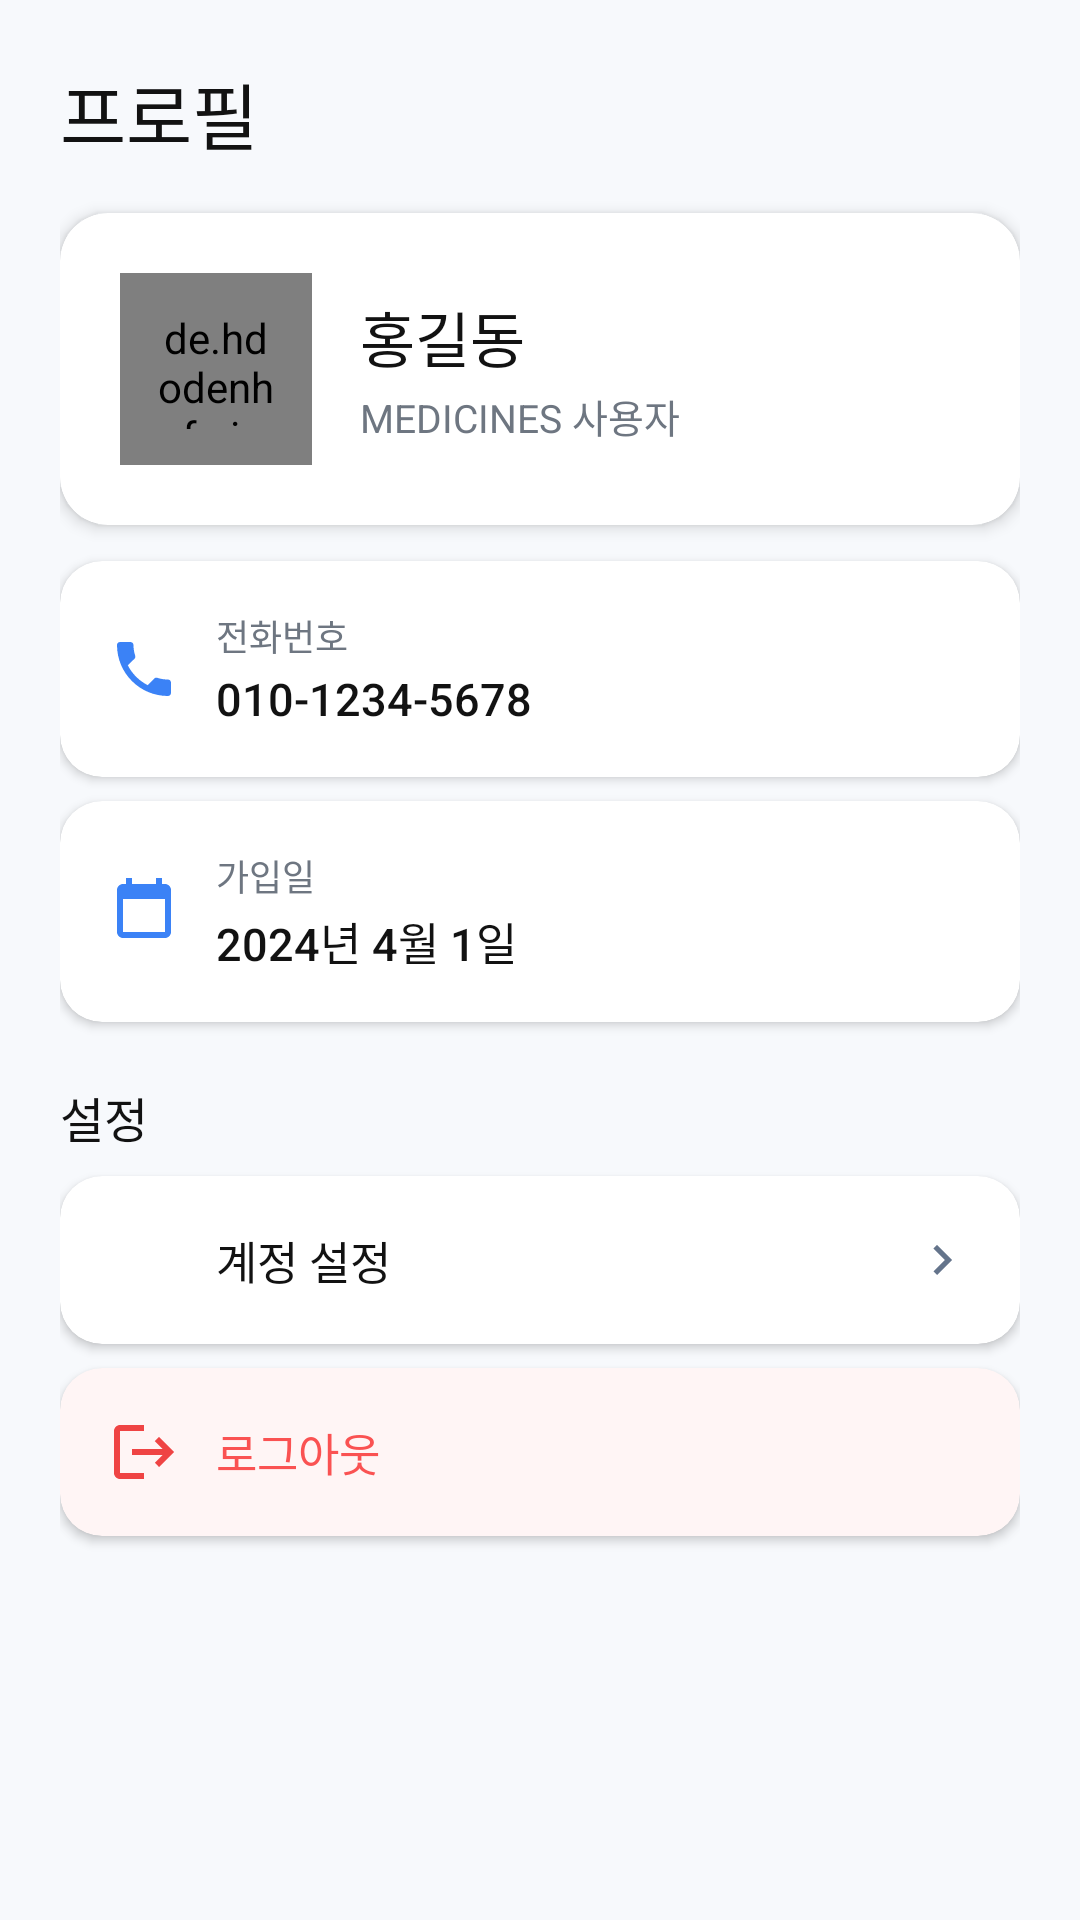

Where icons sit on this 1080px x 1920px app screen, as (x1, y1, x2, y2):
arrow right: (933, 1245, 952, 1275)
calendar: (117, 878, 171, 938)
phone: (117, 642, 171, 696)
